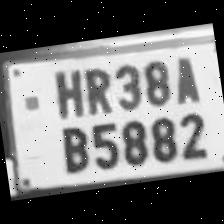2: (172, 106, 211, 162)
3: (108, 56, 144, 112)
5: (86, 116, 121, 171)
8: (136, 52, 172, 108), (116, 113, 150, 168), (144, 111, 178, 166)
A: (166, 50, 204, 107)
B: (53, 120, 92, 174)
H: (46, 62, 86, 122)
R: (77, 60, 114, 118)
